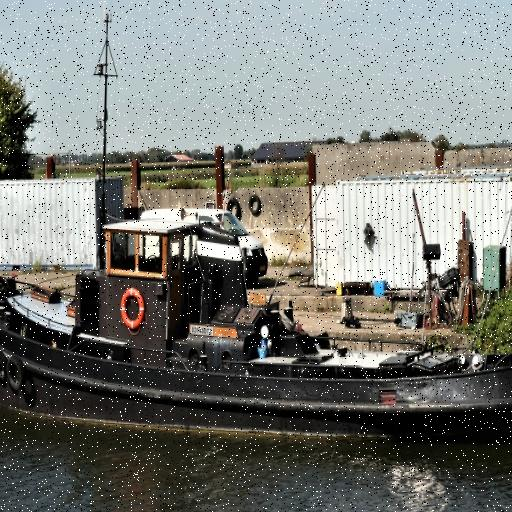tugboat: (1, 201, 512, 465)
